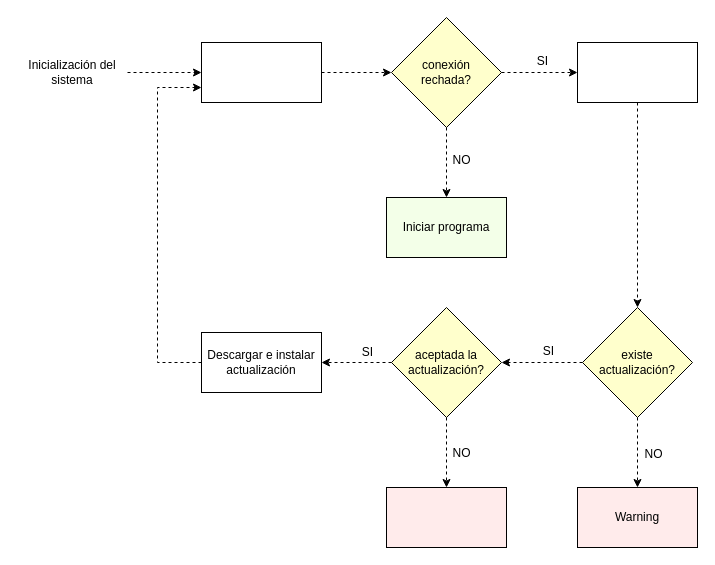
Some shapes in this 715 by 565 pixel diagram are drawn without their labels. The centre of each missing label's shape, as x and y in pixels:
"Bloquear el Remote Manager" belongs at point 446,517.
"Conexión con Host Controller" belongs at point 637,72.
"Conexión con Station Controller" belongs at point 261,72.
